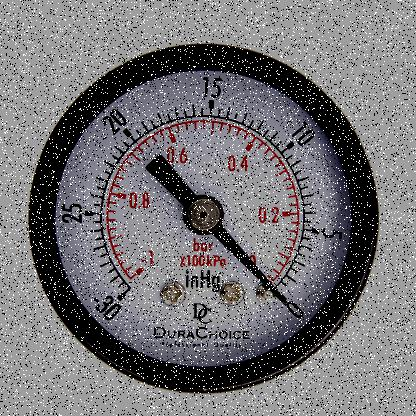needle: (211, 223, 289, 306)
